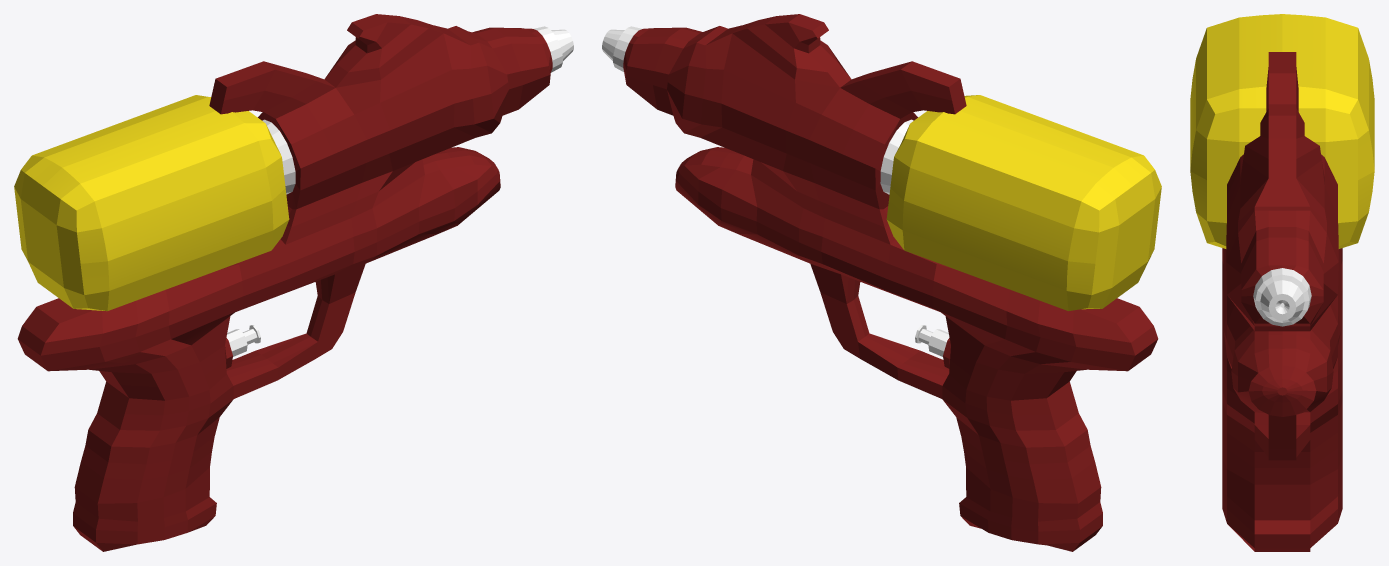
The model's file is pistol2.fbx.
3 views of the same model, side by side, from view 1: azimuth 30°, elevation 25°; view 2: azimuth 150°, elevation 25°; view 3: azimuth 270°, elevation 25° (orthographic). The views are drawn at different scales.
Visible parts, largest first — view 1: pistol4, magasine1; view 2: pistol4, magasine1; view 3: pistol4, magasine1.
Boxes of the visible parts, x1,y1,x2,y2 form: pistol4: [17, 14, 573, 551]; magasine1: [14, 95, 289, 311]; pistol4: [602, 14, 1158, 551]; magasine1: [886, 95, 1161, 311]; pistol4: [1222, 52, 1342, 551]; magasine1: [1190, 14, 1374, 248].
Size of the model in its own units: 16.95 by 13.63 by 4.16.
